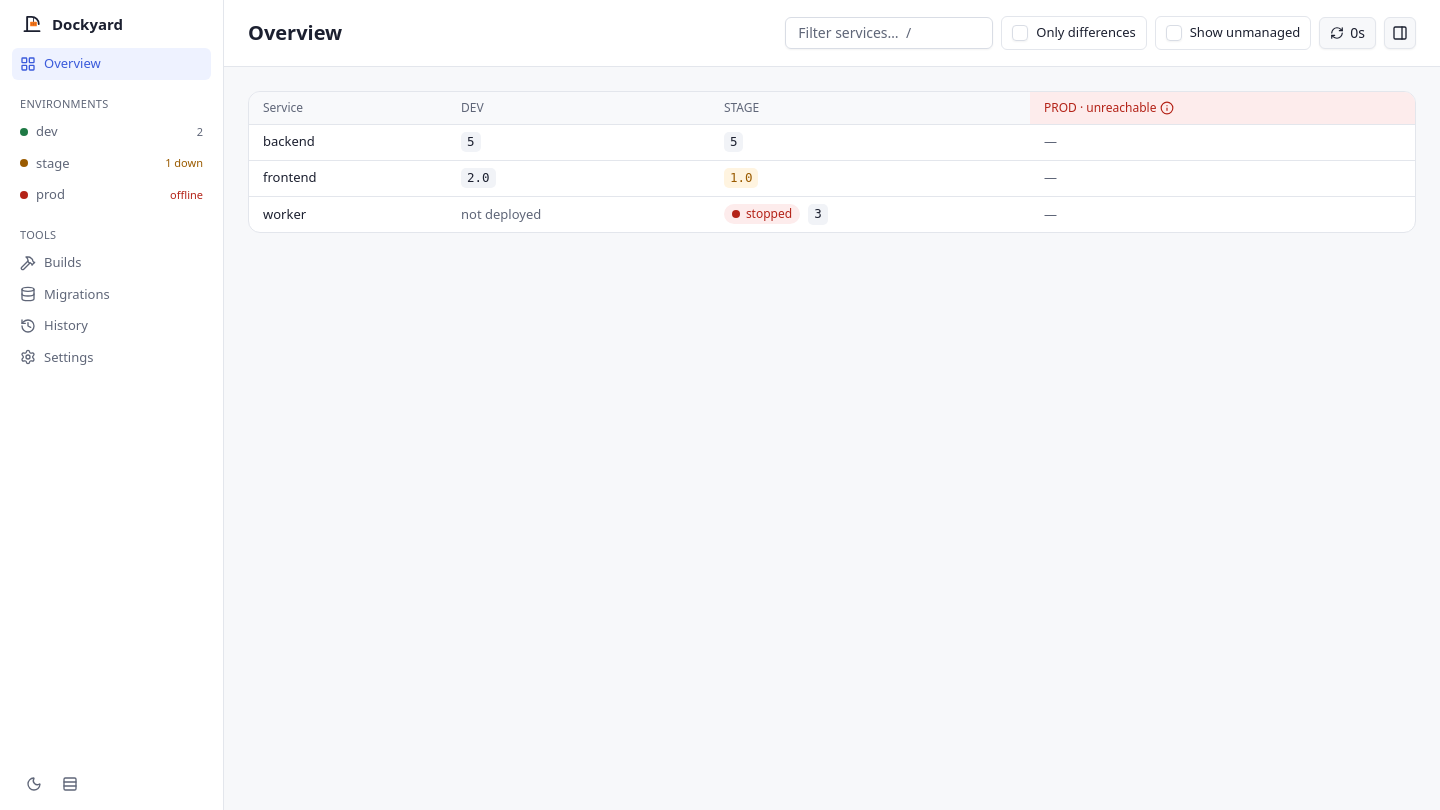
Test: Overview › filters by name and by "only differences"
The image size is (1440, 810).
Expected: the column heading "frontend" is shown, [249,160,447,196]
Click the checkbox named "Only differences" next to "Only differences".
click(1020, 33)  # box [1012,25,1028,41]
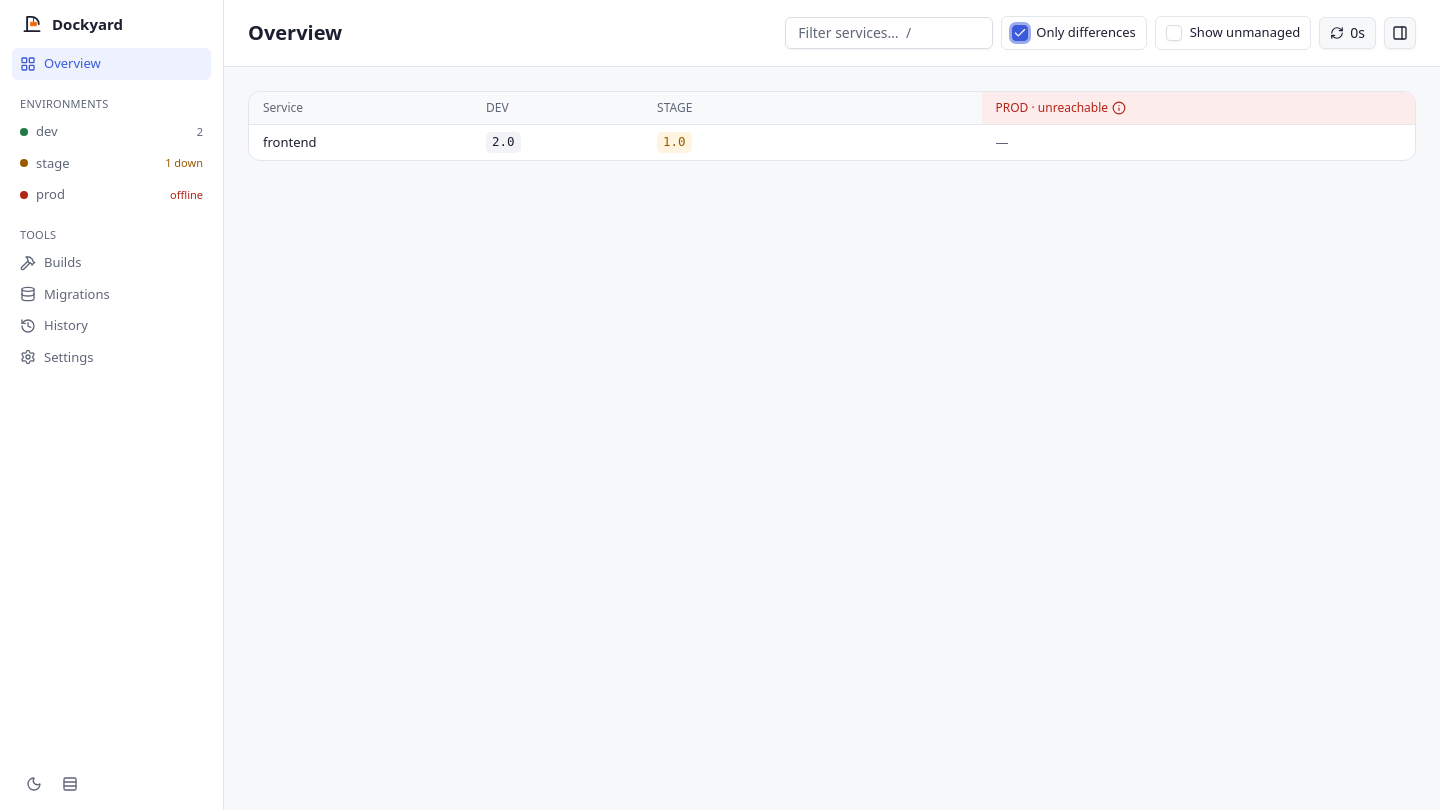
Expected: the column heading "frontend" is shown, [249,124,472,160]
Now the column heading "backend" is gone
Click the checkbox named "Only differences" next to "Only differences".
click(1020, 33)  # box [1012,25,1028,41]
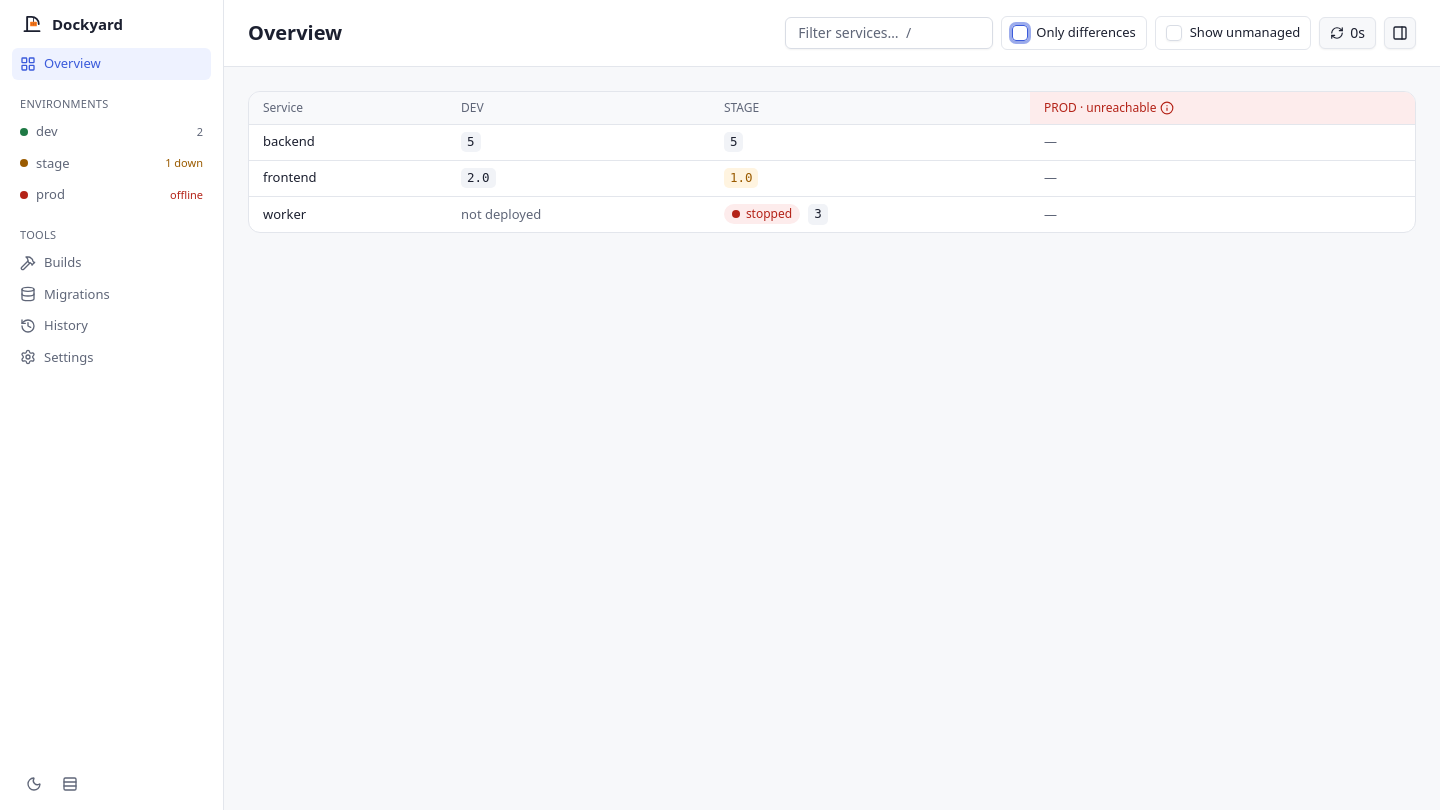
Type "work" into the search field labelled "Filter services".
click(889, 33); type("work")  # box [785,17,993,49]
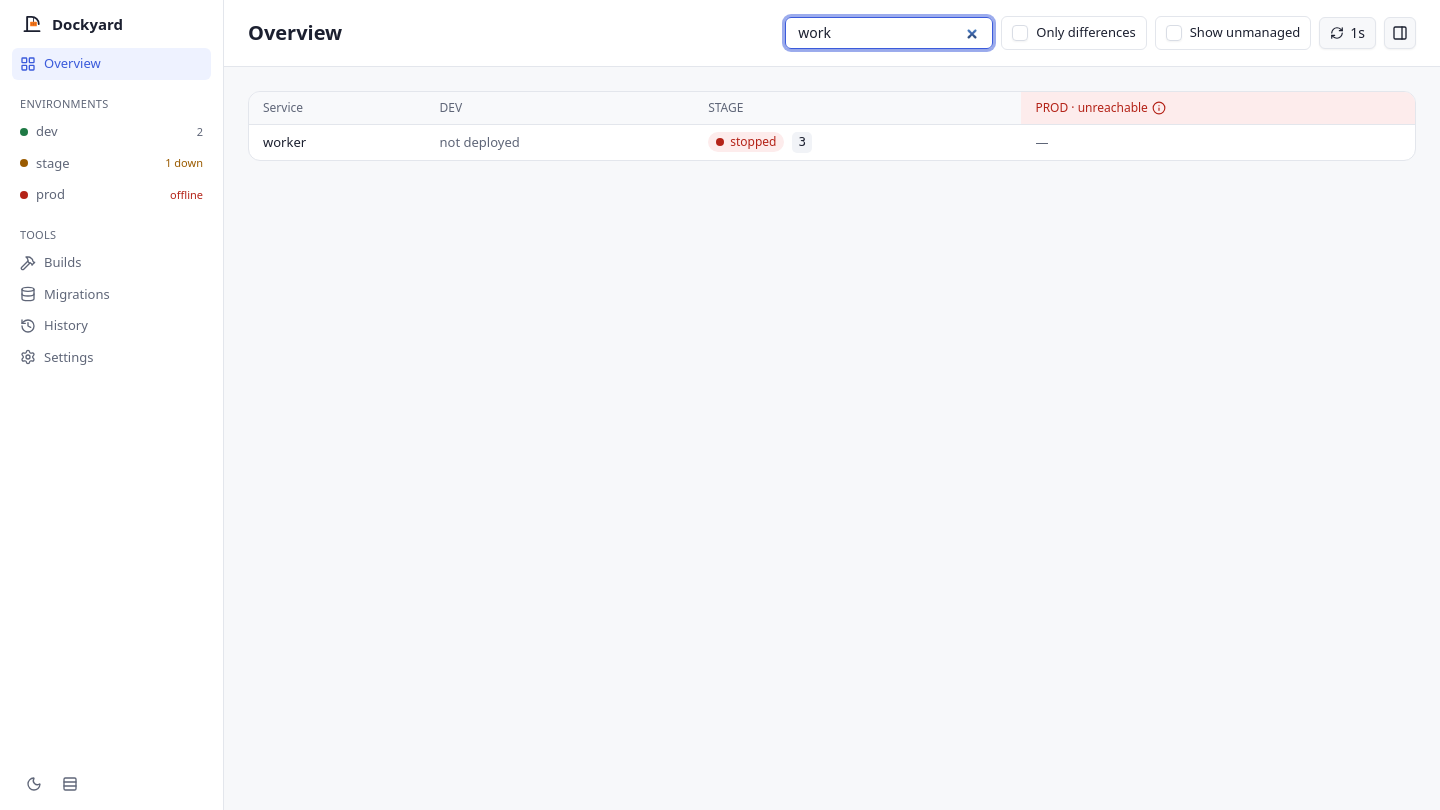
Now the column heading "worker" is shown, box [249,124,426,160]
Now the column heading "frontend" is gone
